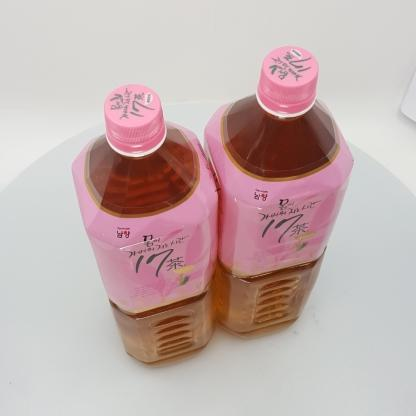--17-----1-5L: (203, 46, 354, 340), (71, 84, 219, 368)
